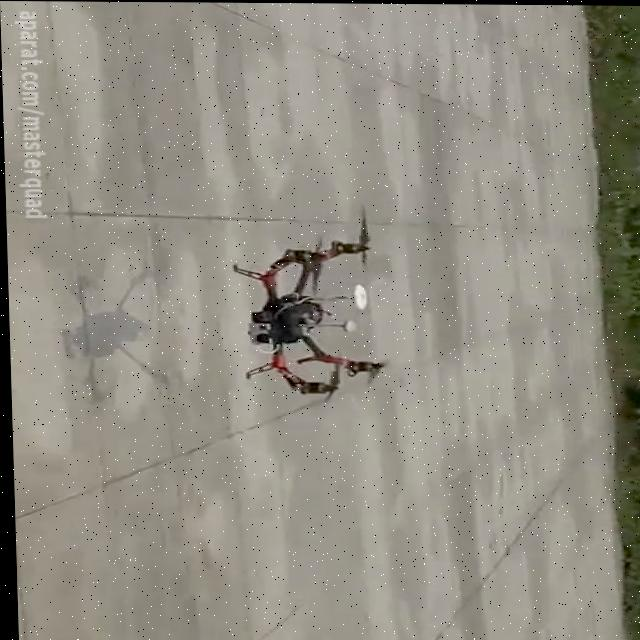drone: (227, 196, 397, 404)
